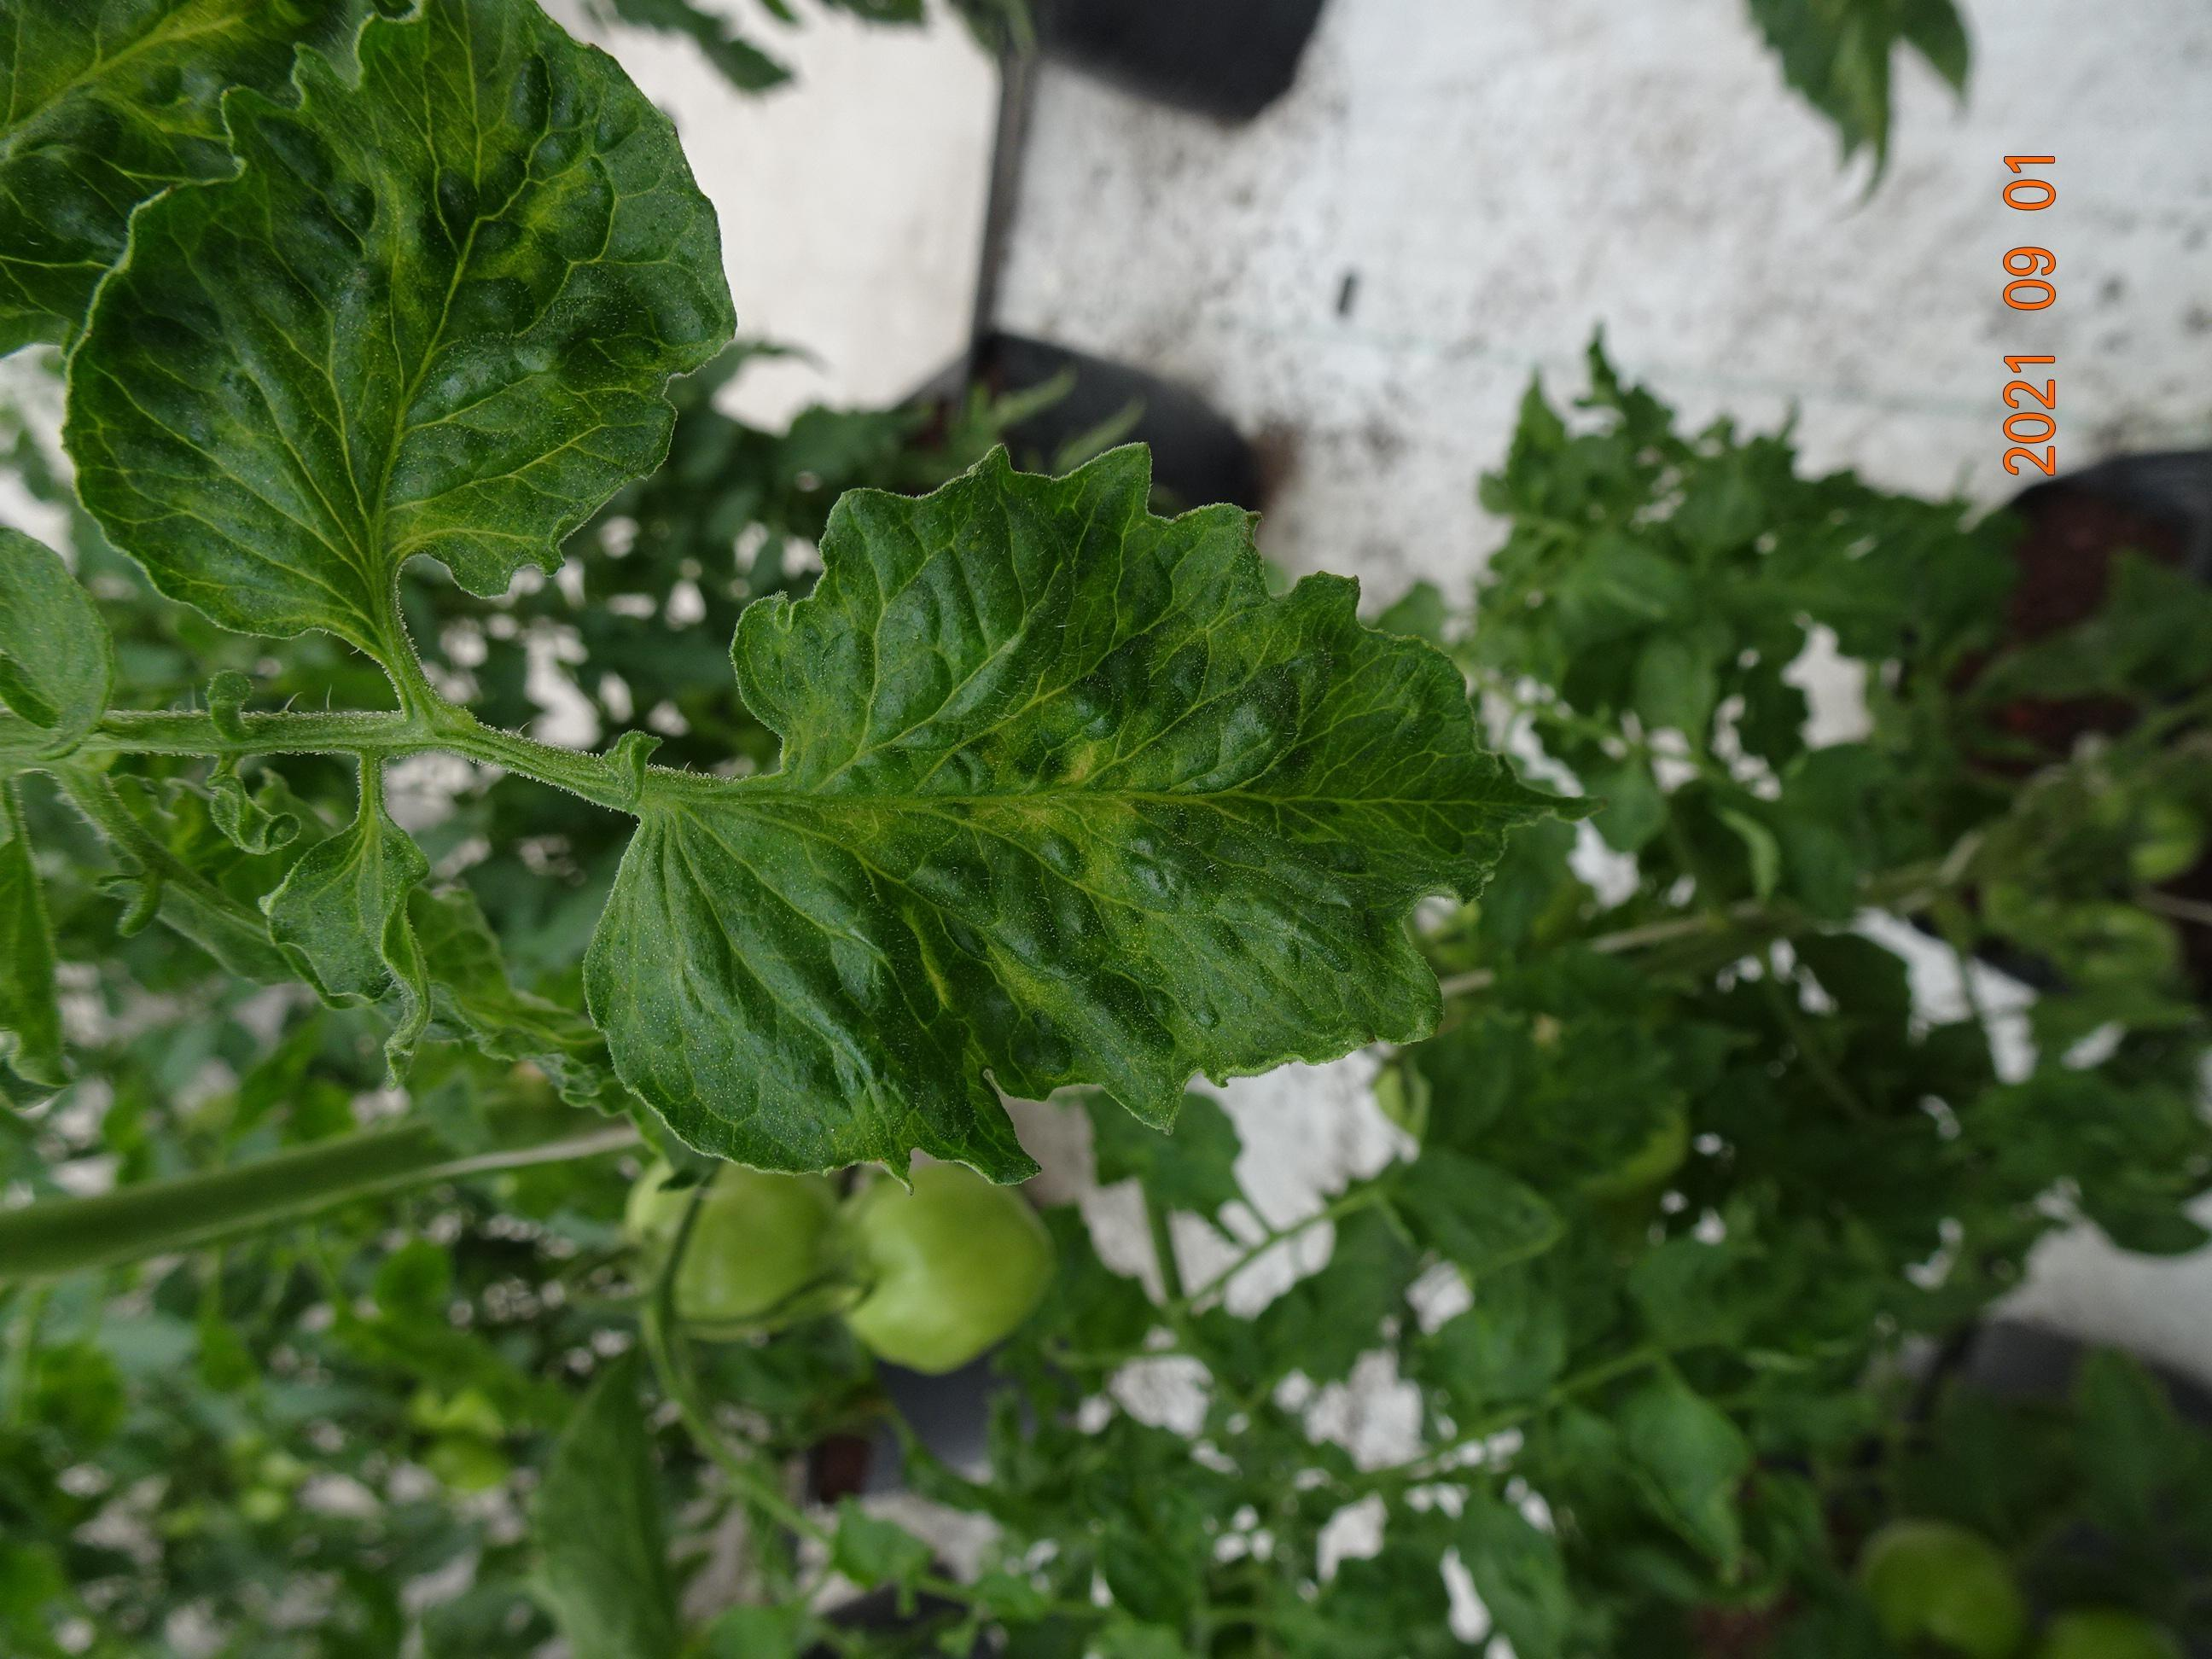Rugose leaf: (583, 450, 1555, 1180), (64, 3, 735, 713)
Rugose stem: (82, 695, 639, 812)
